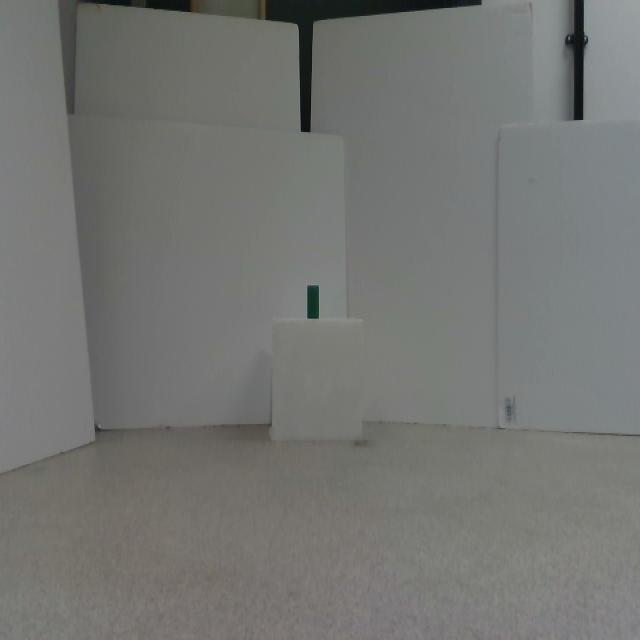green_cylinder: (307, 285, 320, 319)
